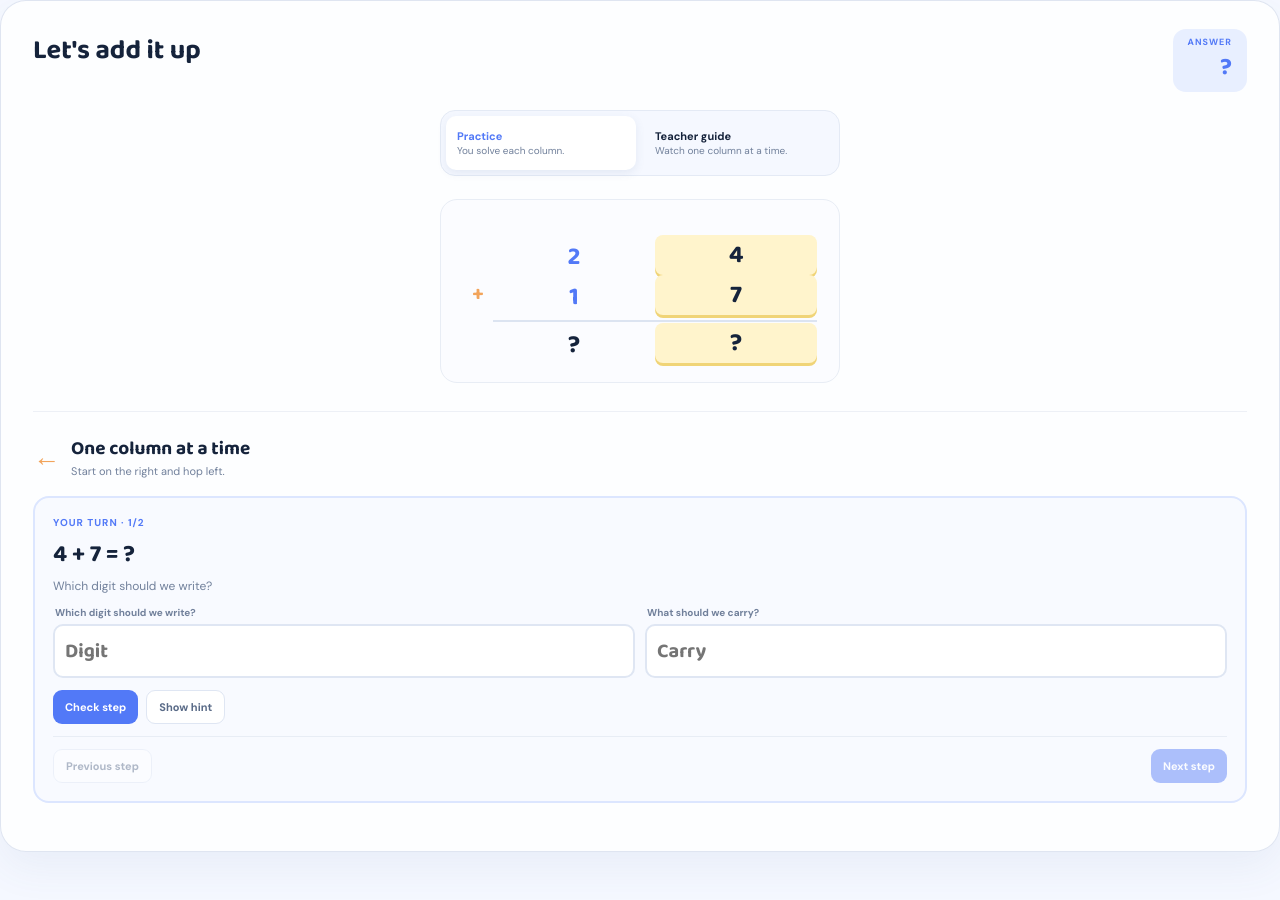
it: ResultPanel guided flow › supports previous and show all steps in teacher mode
Click the button "Teacher guide Watch one column at a time." at (739, 143), box 644,116 -> 834,170
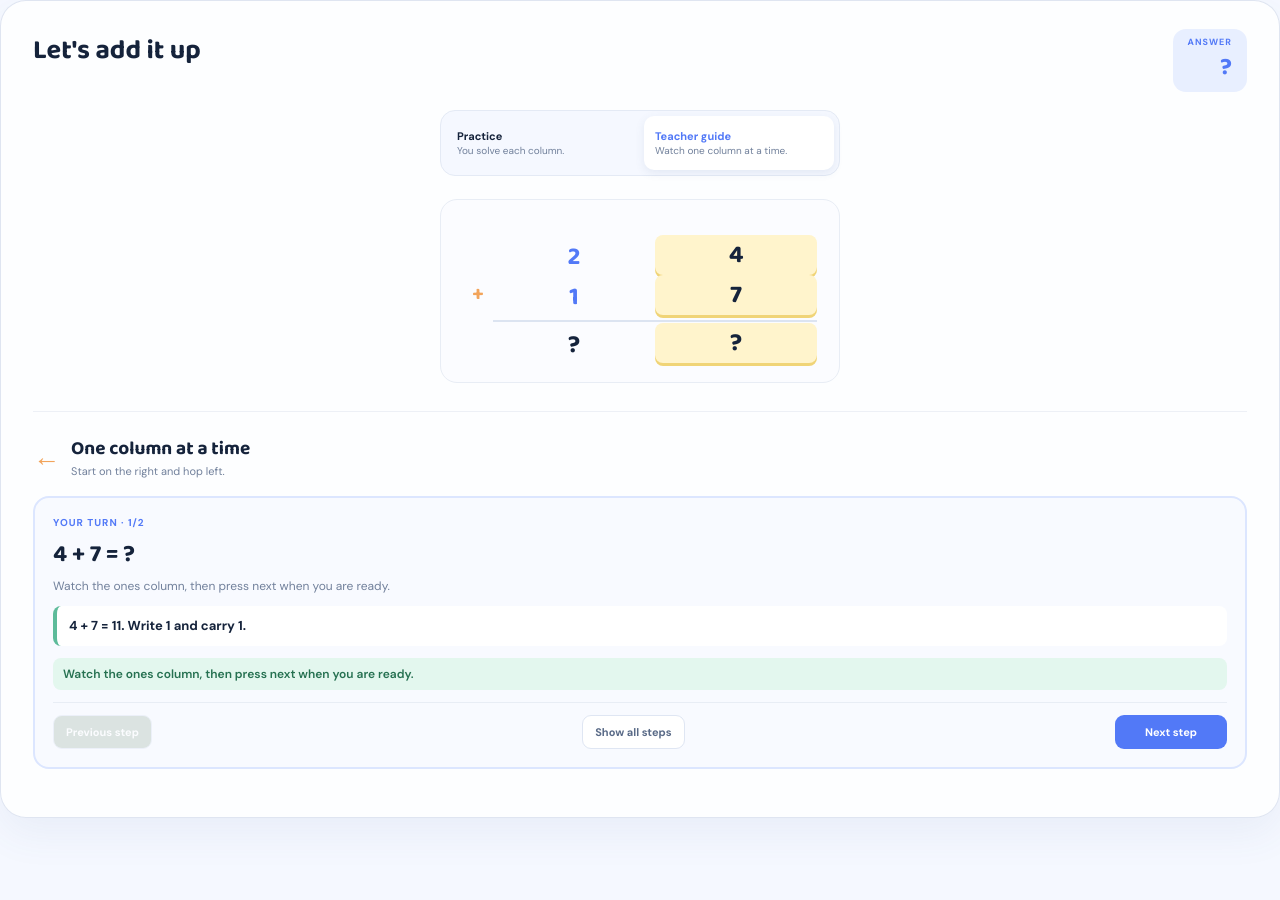
Click the button "Next step" at (1171, 732), box 1115,714 -> 1227,748
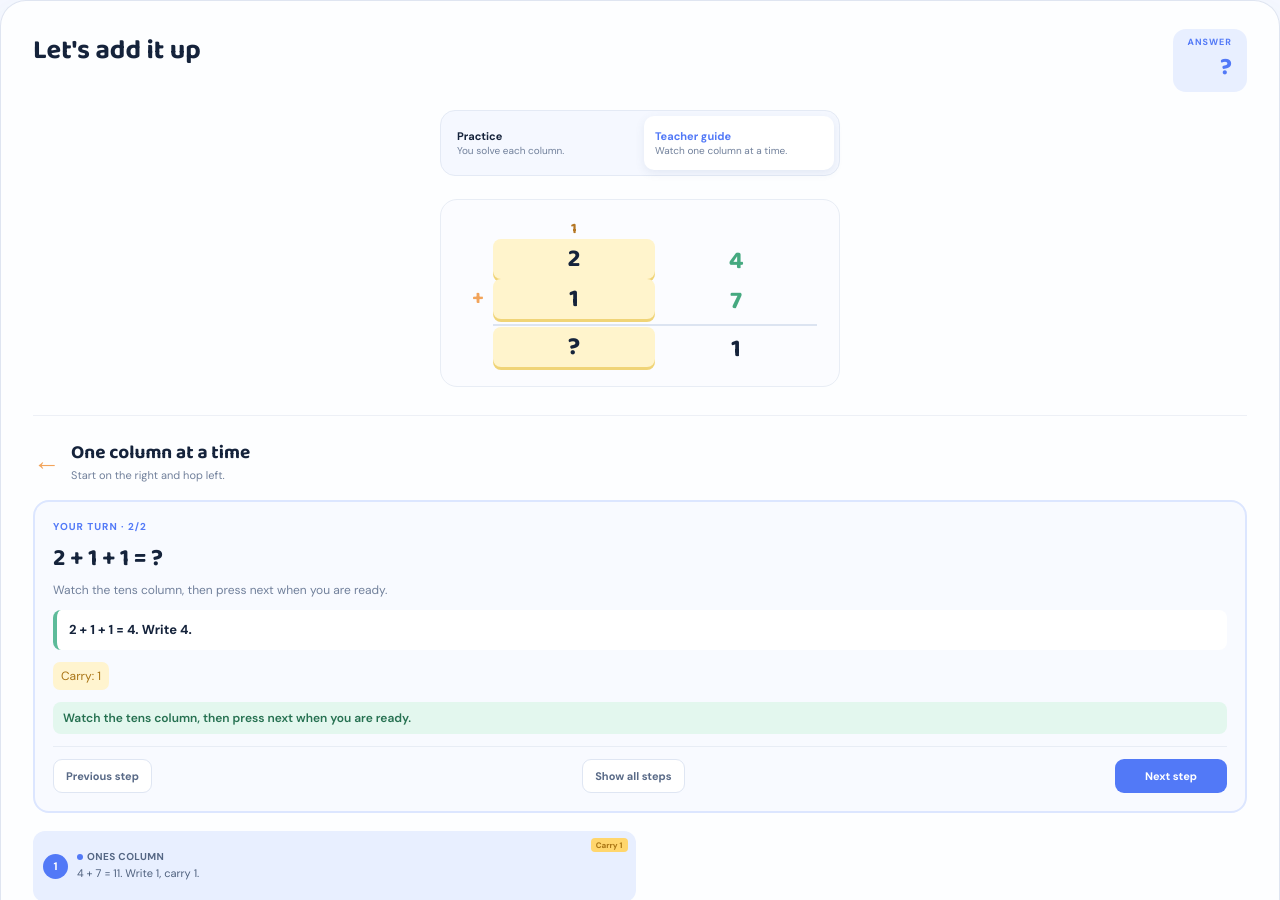
Click the button "Previous step" at (102, 776), box 53,758 -> 152,792
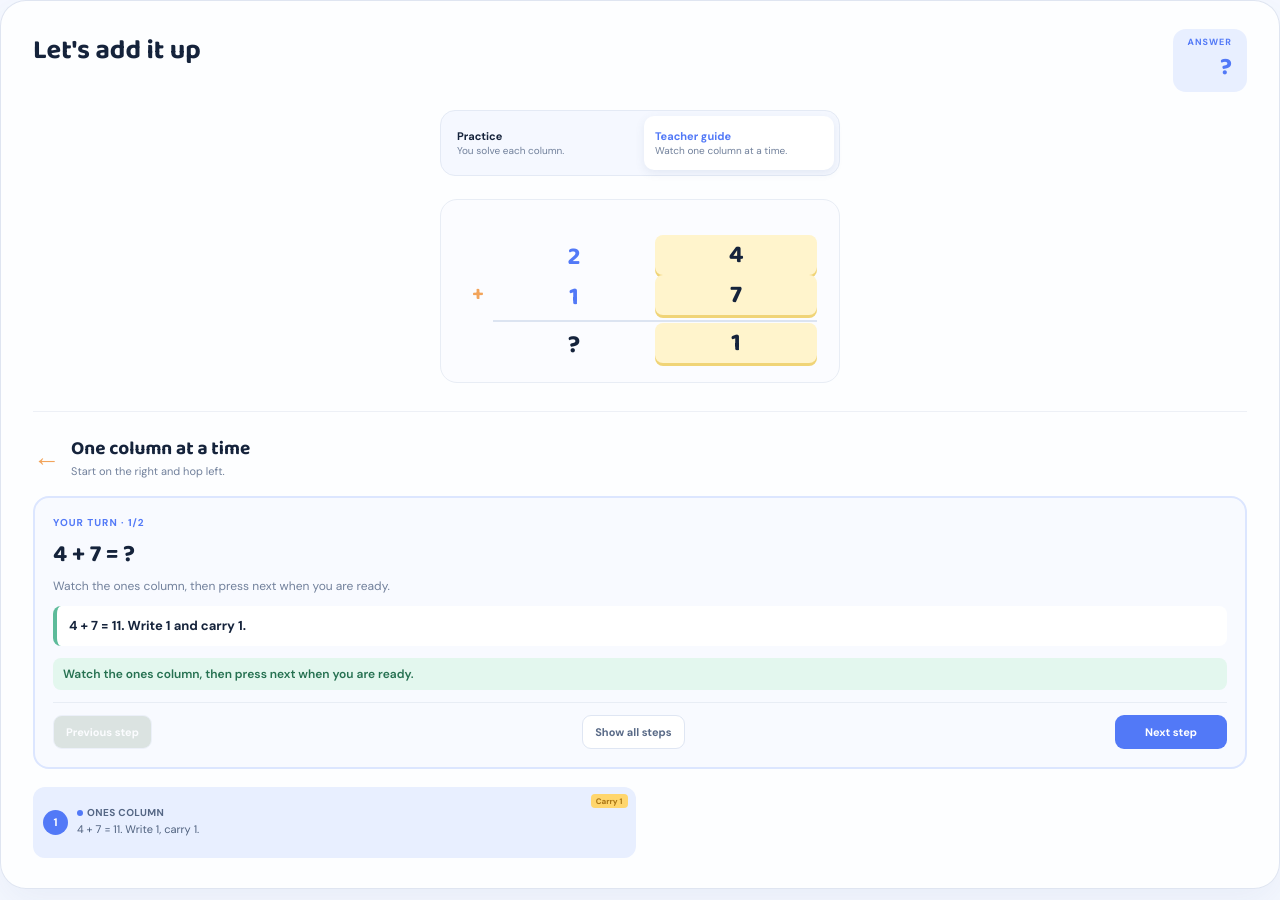
Check: the heading "4 + 7 = ?" is shown, box 53,535 -> 135,574
Click the button "Show all steps" at (633, 732), box 582,714 -> 685,748
(page scrolled)
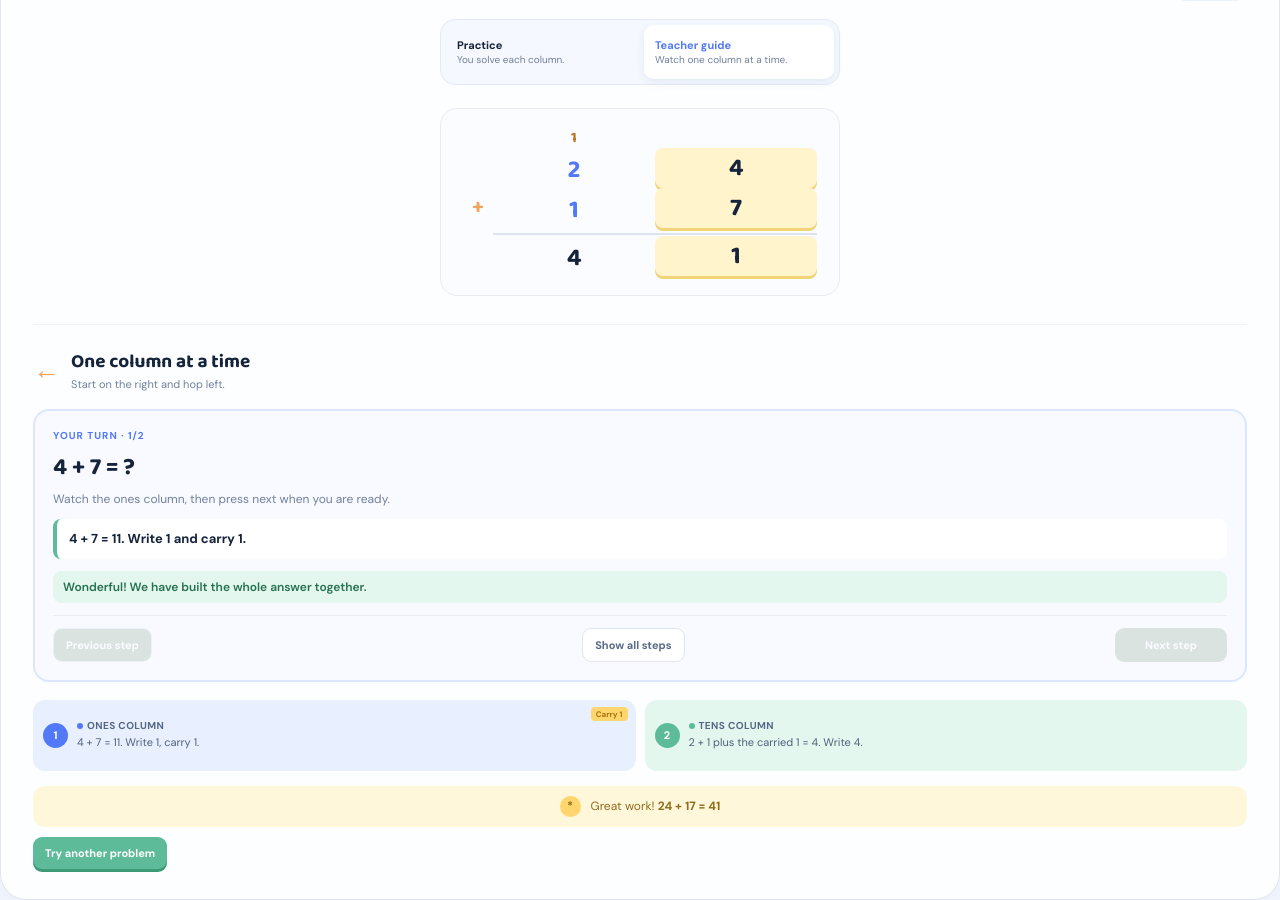
Check: the text "Wonderful! We have built the whole answer together." is shown, box 53,570 -> 1227,602
Check: the text "24 + 17 = 41" is shown, box 658,798 -> 720,814
